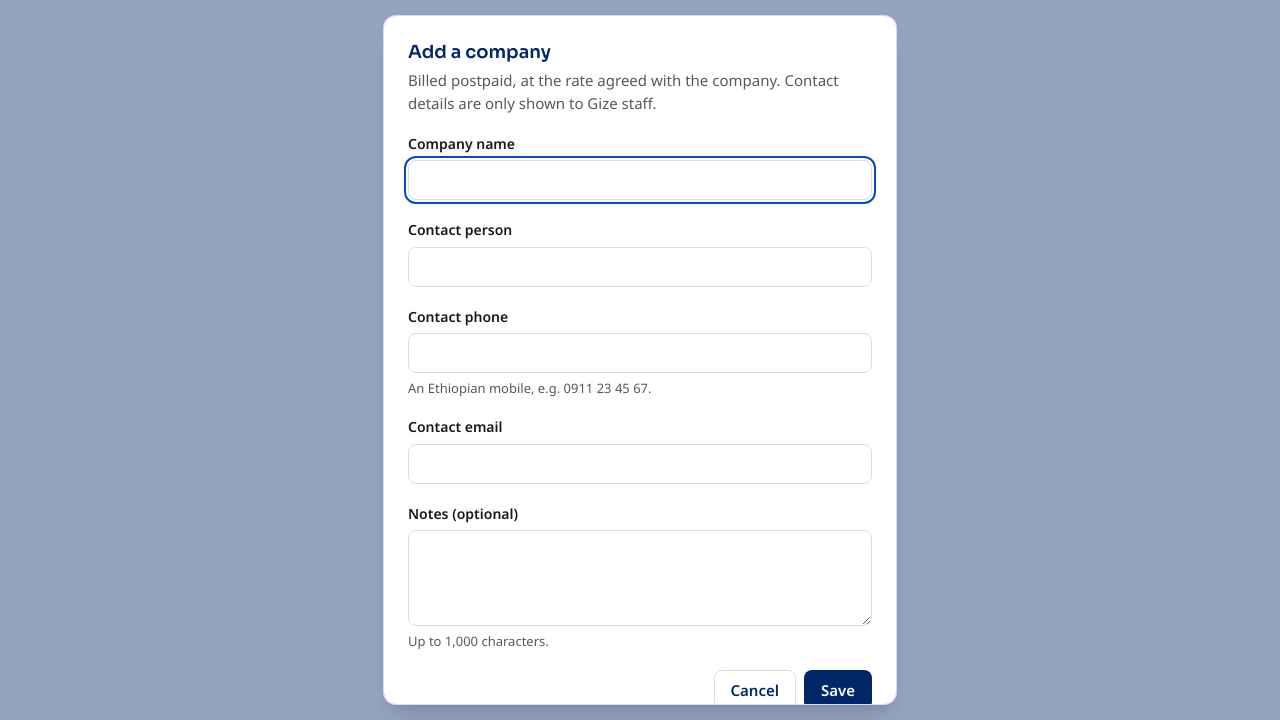
Scenario: CompanyFormDialog › shows a taken name on the name field
Type "  Ethio Ceramics " into the field labelled "Company name" at (640, 180), box [408, 160, 872, 200]
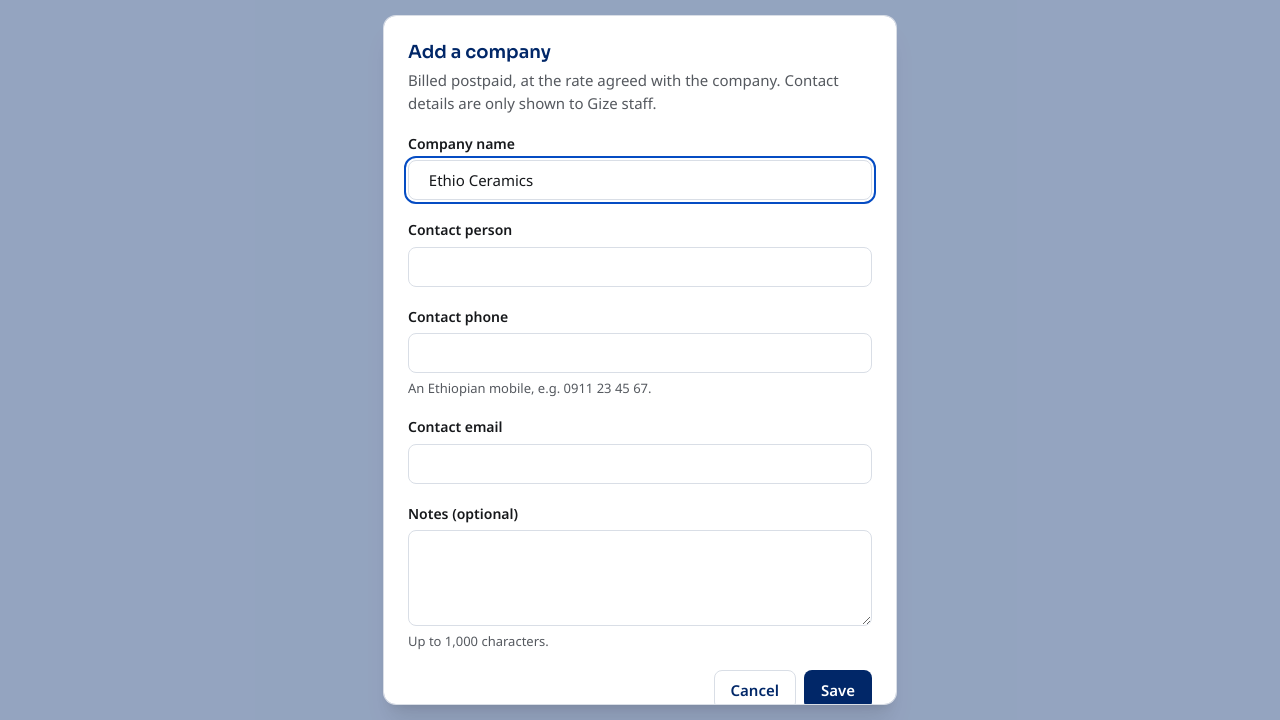
Type "Dawit Alemu" into the field labelled "Contact person" at (640, 267), box [408, 247, 872, 287]
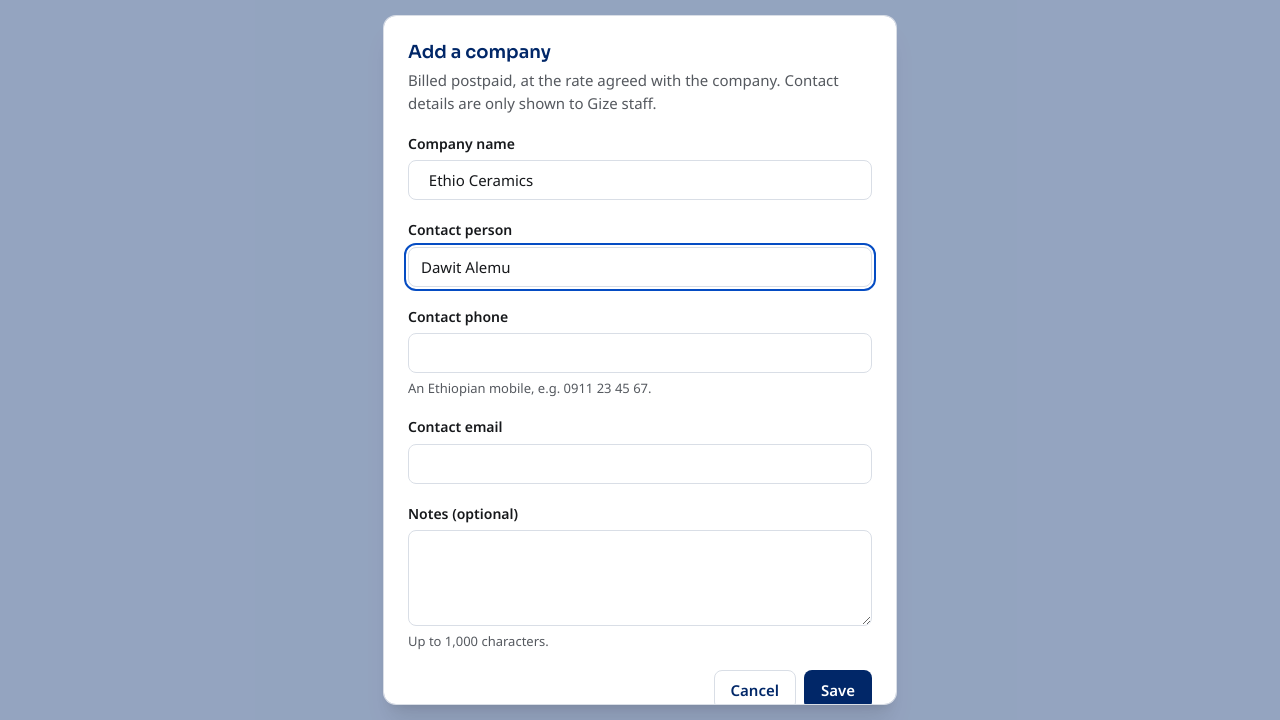
Type "0922 34 56 78" into the field labelled "Contact phone" at (640, 353), box [408, 333, 872, 373]
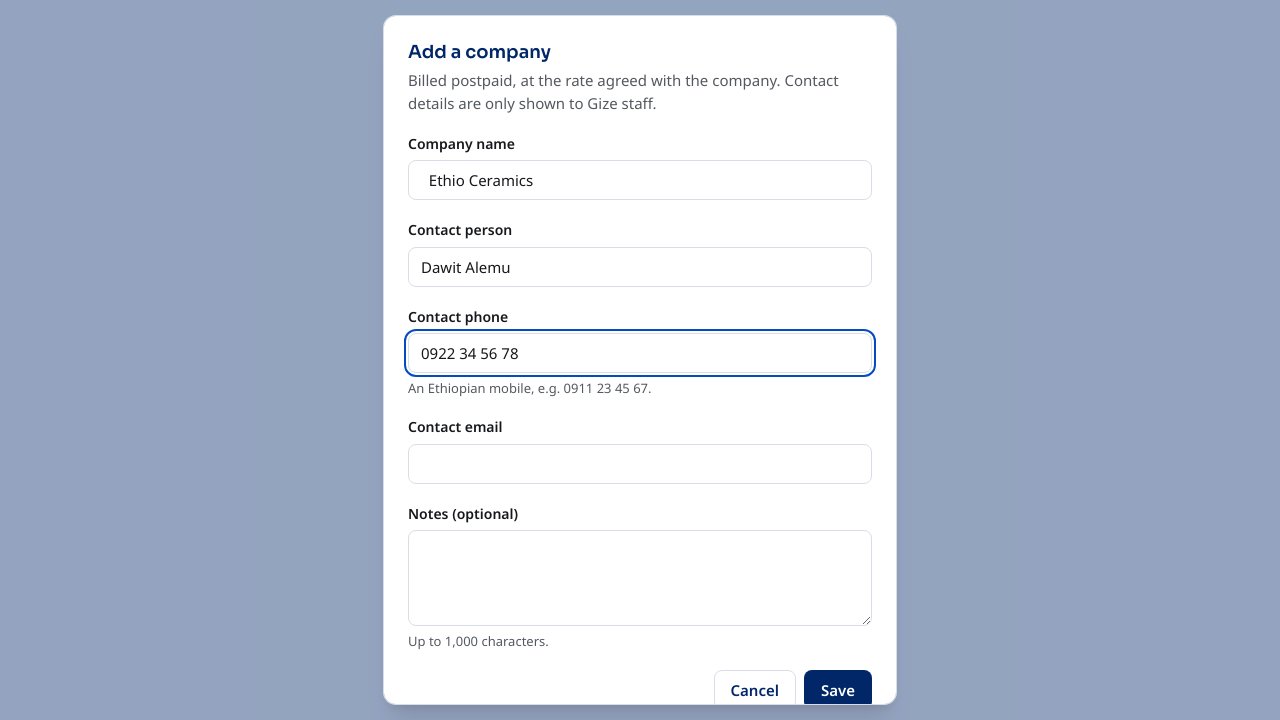
Type "Dawit@Ceramics.test" into the field labelled "Contact email" at (640, 464), box [408, 444, 872, 484]
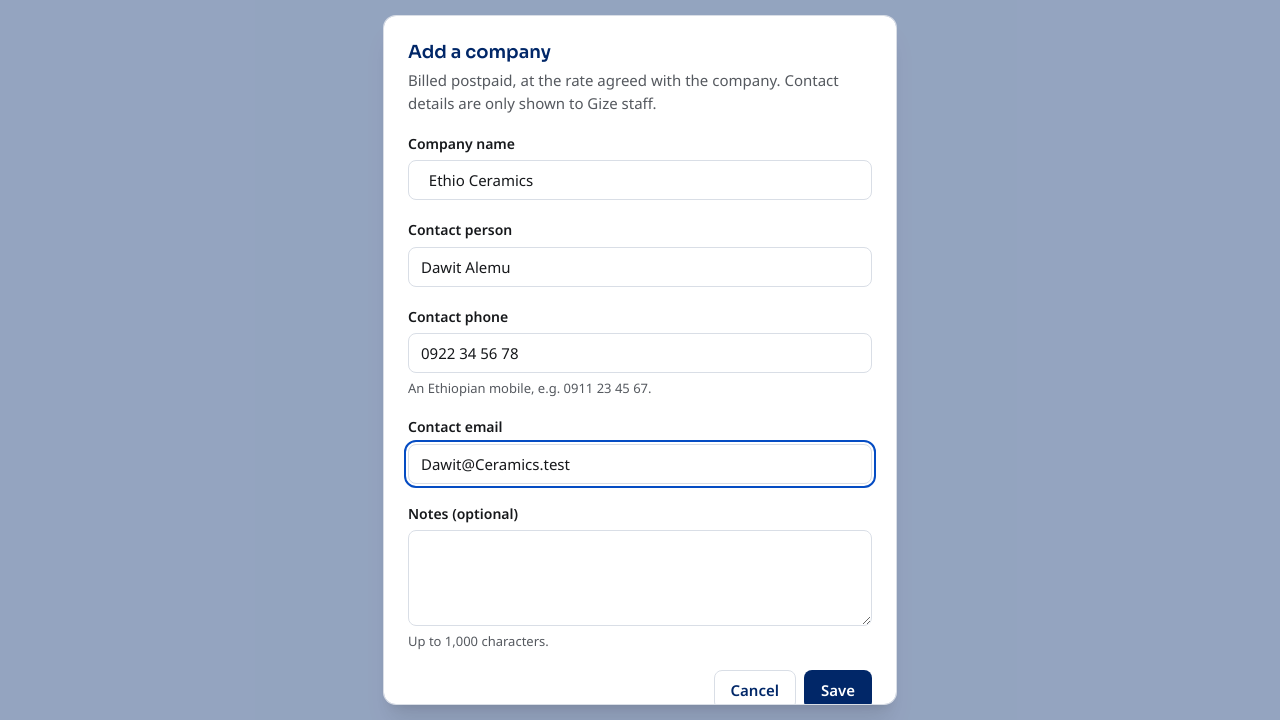
Click the button "Save" at (838, 690), box [804, 670, 872, 710]
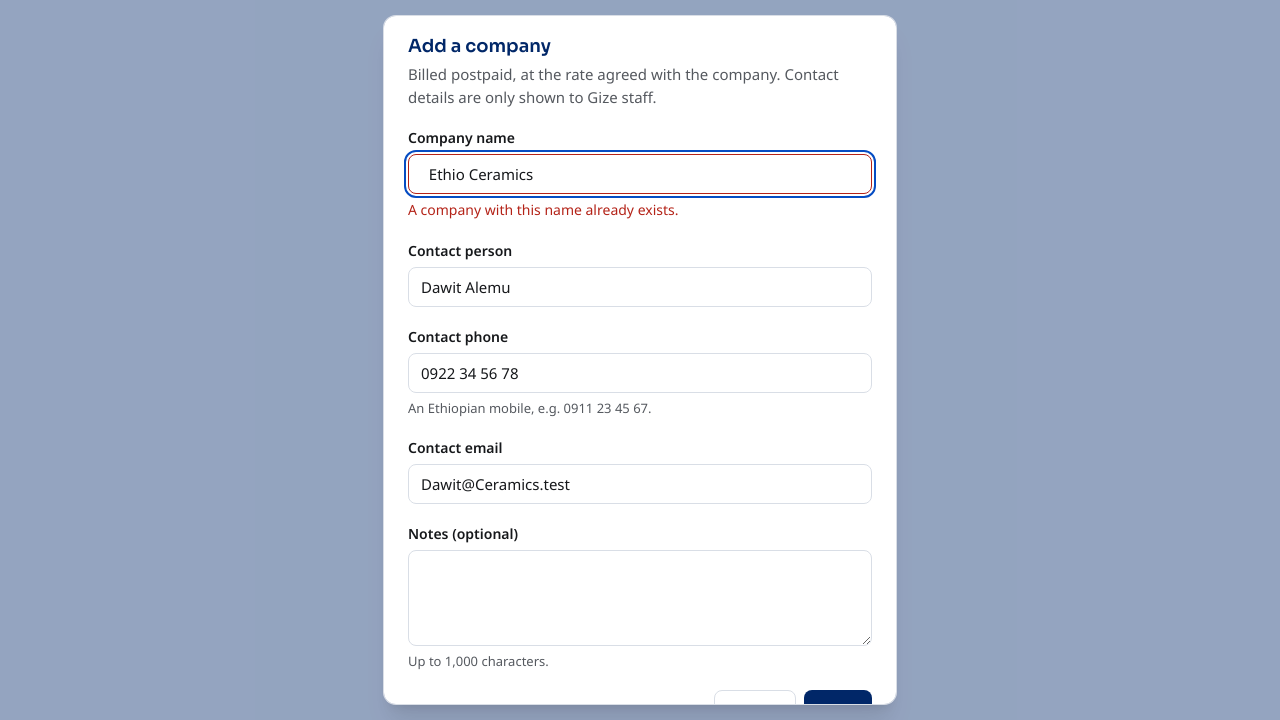
Expected: the field labelled "Company name" is marked as invalid, [408, 154, 872, 194]
